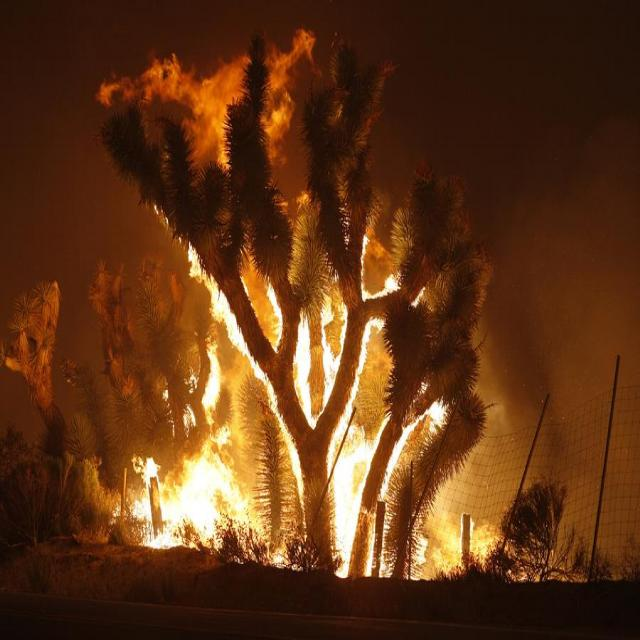Fire: (128, 373, 267, 552), (188, 246, 276, 404), (294, 312, 316, 429), (277, 414, 304, 505), (322, 341, 341, 411), (357, 322, 371, 378), (376, 275, 398, 297), (267, 284, 279, 315)
fire: (332, 435, 374, 578)
